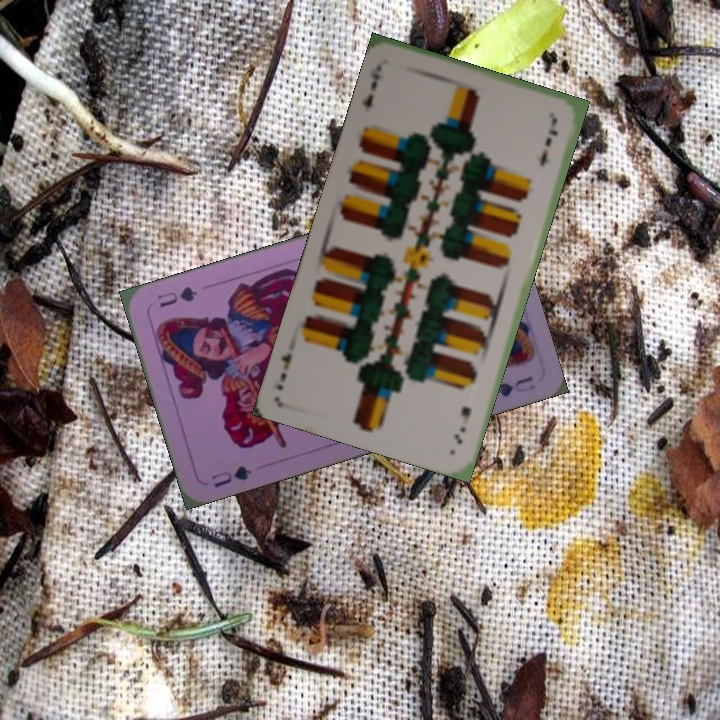E7: (358, 61, 384, 111), (449, 402, 474, 447)
GU: (207, 461, 255, 491)
